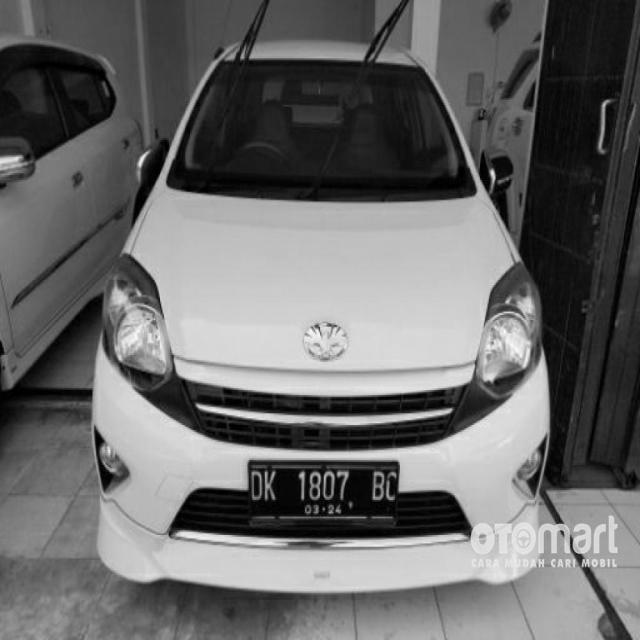0: (323, 470, 337, 508)
1: (298, 466, 310, 514)
7: (336, 462, 356, 510)
8: (310, 470, 322, 506)
B: (371, 468, 388, 508)
C: (383, 472, 405, 510)
D: (250, 470, 264, 501)
K: (264, 470, 278, 501)
